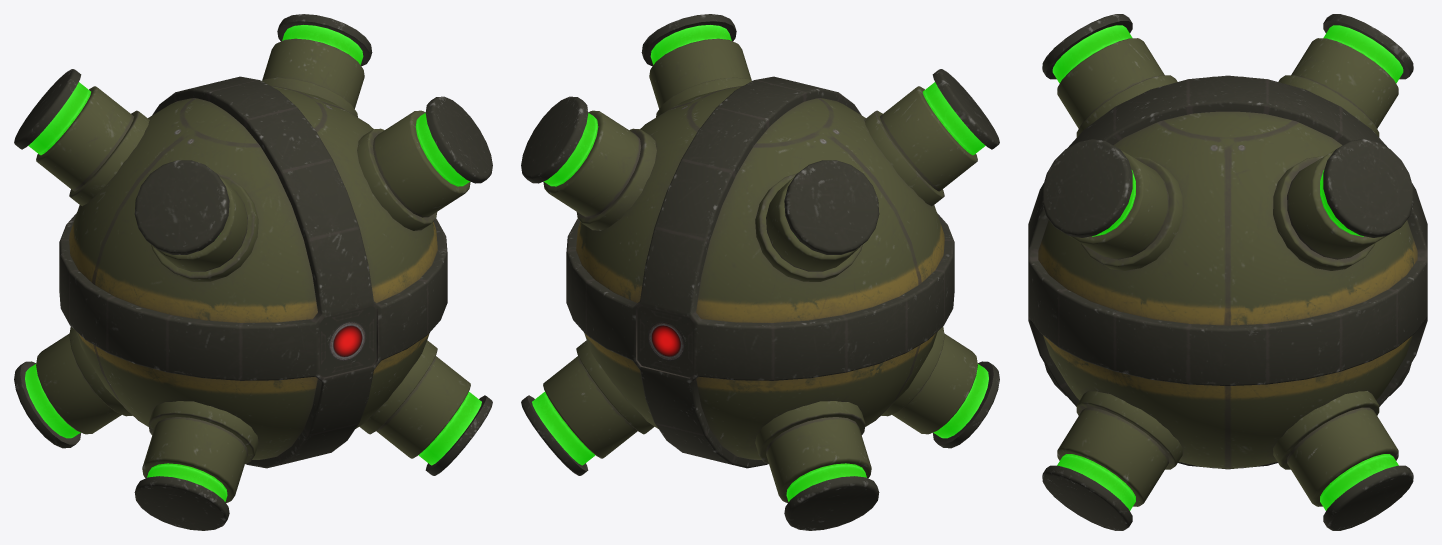
The model's file is Bomb_4.fbx.
3 views of the same model, side by side, from view 1: azimuth 30°, elevation 25°; view 2: azimuth 150°, elevation 25°; view 3: azimuth 270°, elevation 25° (orthographic). The views are drawn at different scales.
Parts seen in each view (by area): view 1: Bomb_4; view 2: Bomb_4; view 3: Bomb_4.
Part boxes in pixels (x1,y1,x2,y2): Bomb_4: [14, 14, 492, 530]; Bomb_4: [521, 14, 999, 530]; Bomb_4: [1028, 14, 1427, 530].
Size of the model in its own units: 97.12 by 98.47 by 92.24.
